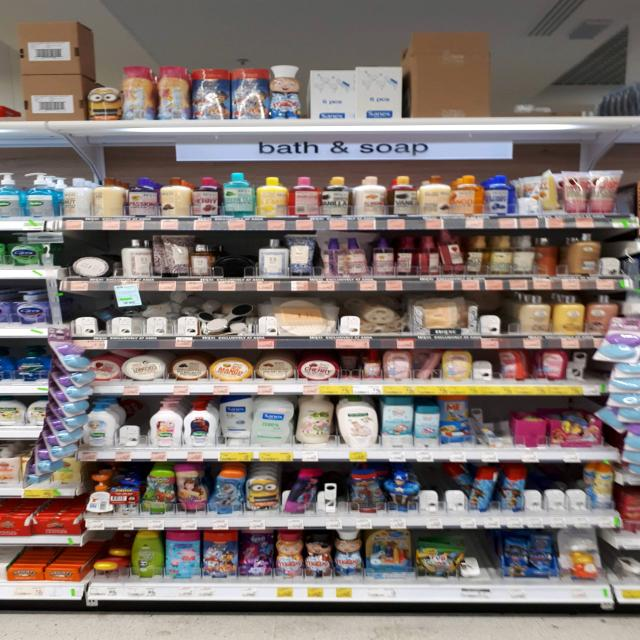empty: (522, 469, 597, 516), (418, 471, 471, 523), (481, 284, 522, 333), (212, 240, 264, 278), (462, 531, 504, 576), (318, 470, 357, 516)
